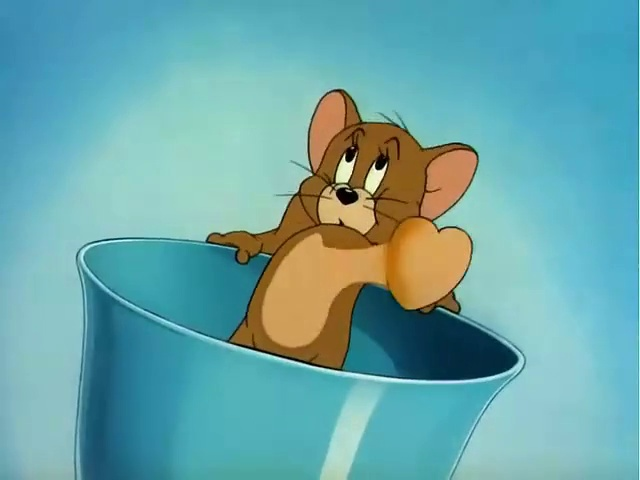jerry: (203, 35, 512, 390)
